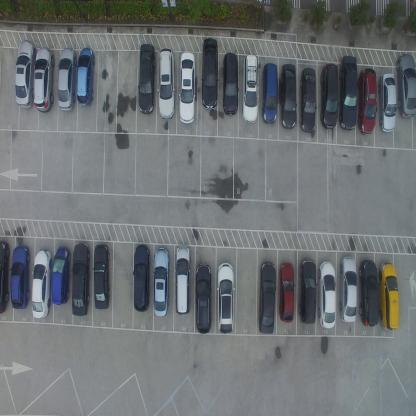car: (377, 259, 400, 330), (338, 53, 358, 131), (14, 38, 36, 108), (178, 51, 198, 125), (33, 47, 55, 114), (358, 258, 379, 326), (200, 36, 219, 111), (32, 249, 52, 320), (357, 66, 377, 136), (139, 43, 158, 116), (72, 241, 90, 317), (320, 61, 339, 132), (396, 53, 416, 120), (217, 260, 235, 334), (158, 47, 176, 120), (258, 261, 276, 334), (194, 261, 212, 334), (241, 52, 259, 124), (318, 259, 336, 329), (132, 242, 150, 312), (10, 244, 29, 310), (339, 255, 357, 323), (51, 245, 71, 306), (174, 245, 191, 316), (281, 60, 298, 130), (153, 246, 170, 316), (298, 258, 316, 324), (76, 46, 95, 108), (58, 46, 76, 110), (222, 51, 239, 117), (93, 243, 109, 311), (378, 71, 396, 131), (300, 67, 316, 134), (262, 61, 279, 124), (278, 261, 295, 323), (0, 240, 9, 316)
